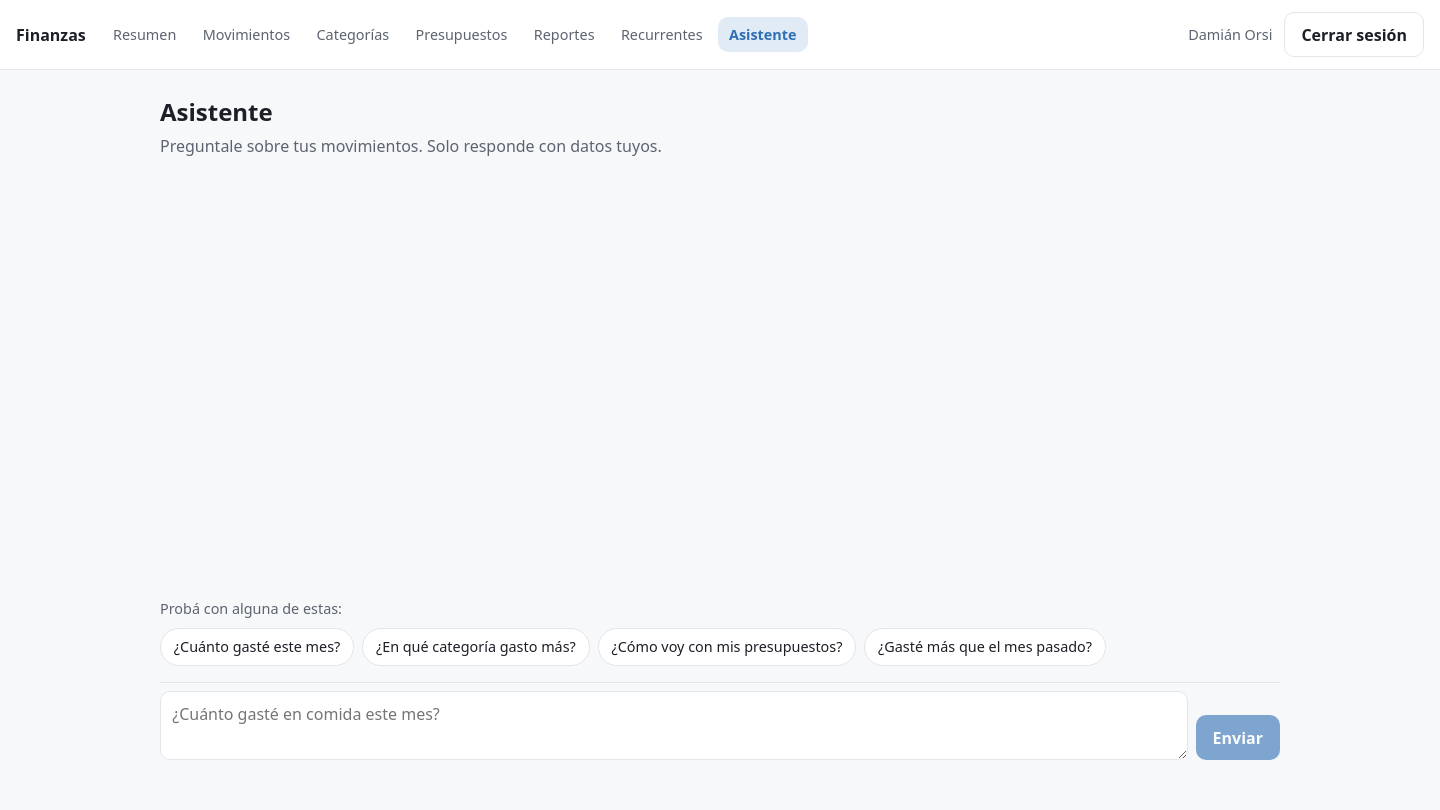
Scenario: ChatPage › continúa la misma conversación en el segundo mensaje
Type "primera" into the text box named "tu consulta" at (674, 726), box [160, 691, 1188, 760]
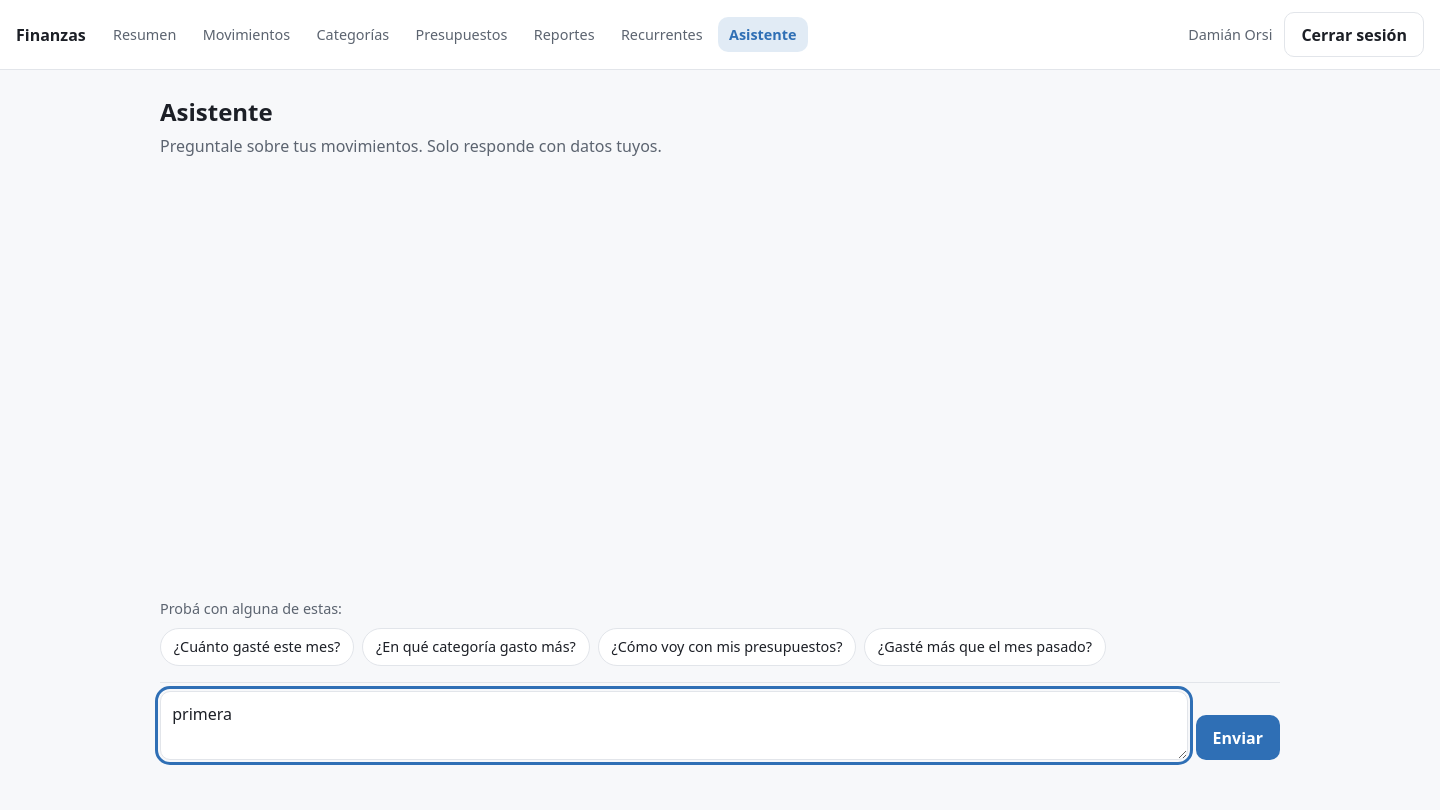
Click the button "Enviar" at (1238, 738), box [1196, 715, 1280, 760]
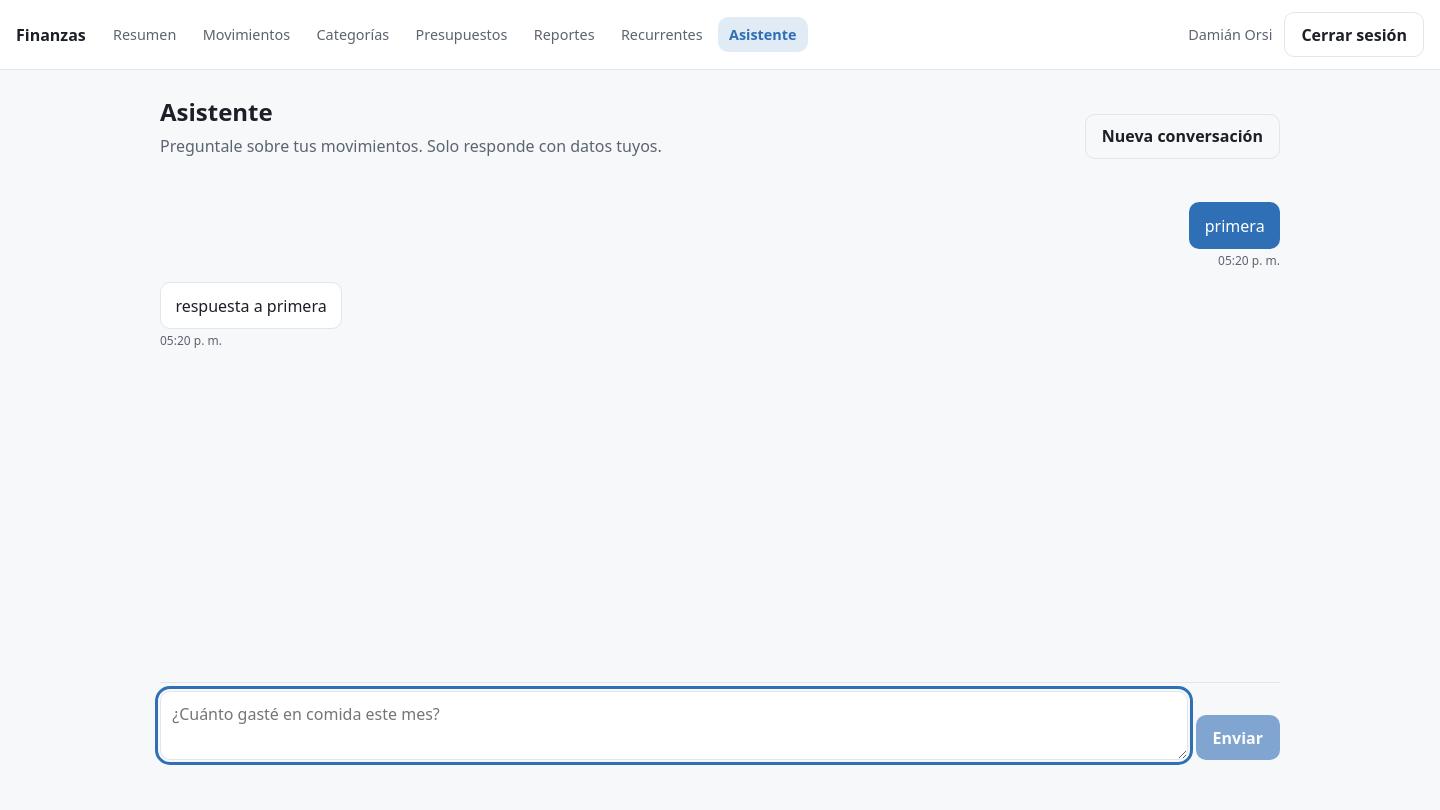
Expected: the text "respuesta a primera" is shown, [175, 294, 327, 318]
Type "segunda" into the text box named "tu consulta" at (674, 726), box [160, 691, 1188, 760]
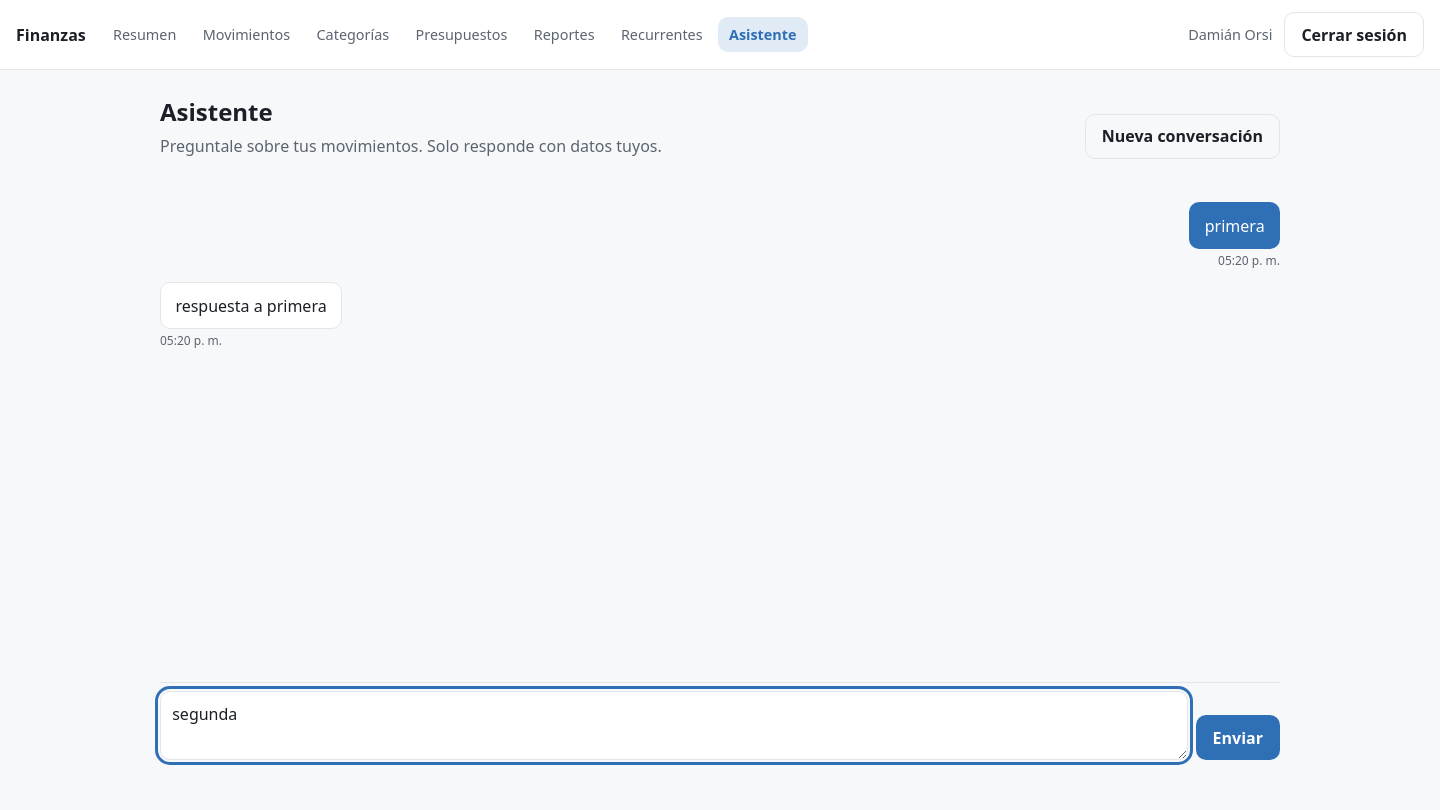
Click the button "Enviar" at (1238, 738), box [1196, 715, 1280, 760]
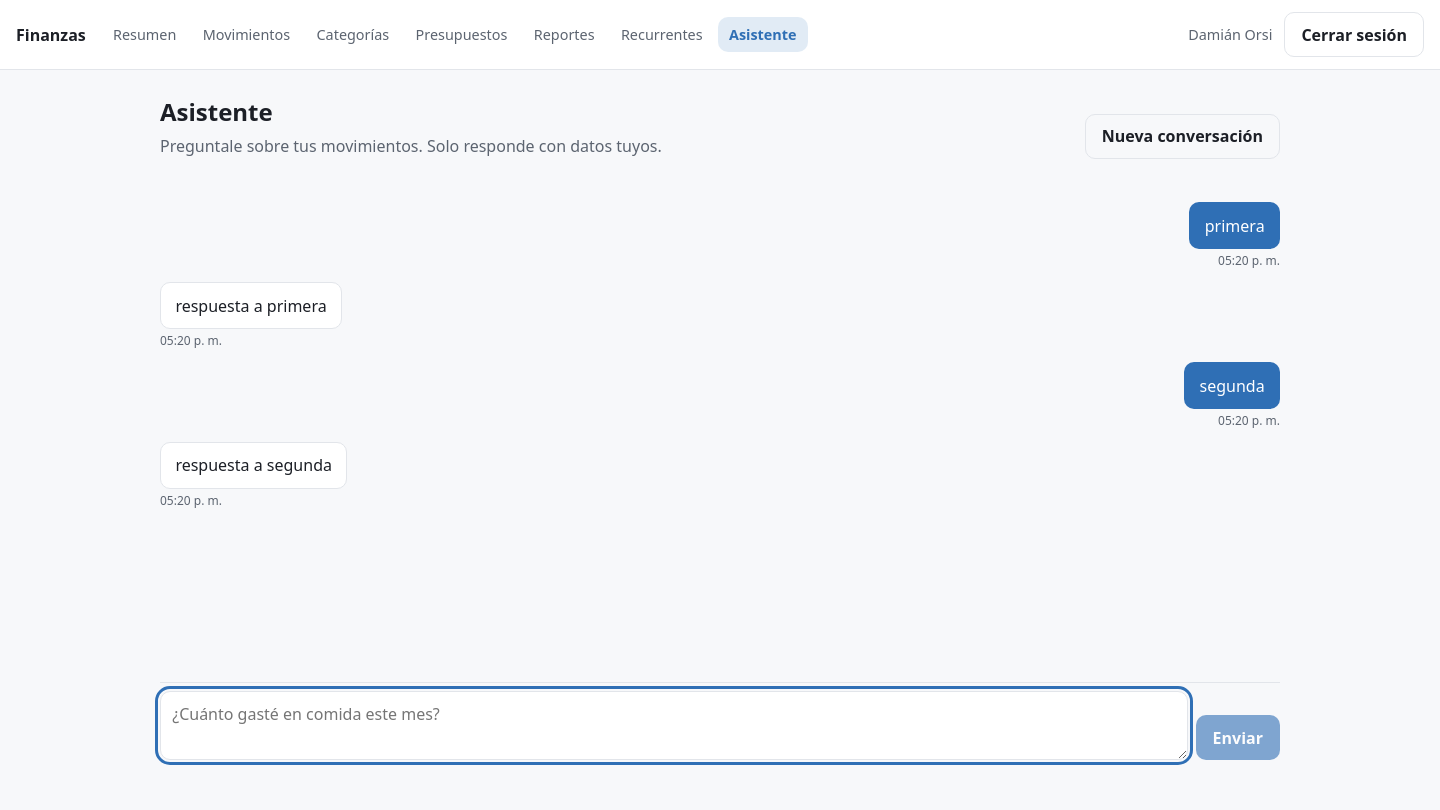
Expected: the text "respuesta a segunda" is shown, [175, 454, 332, 478]
